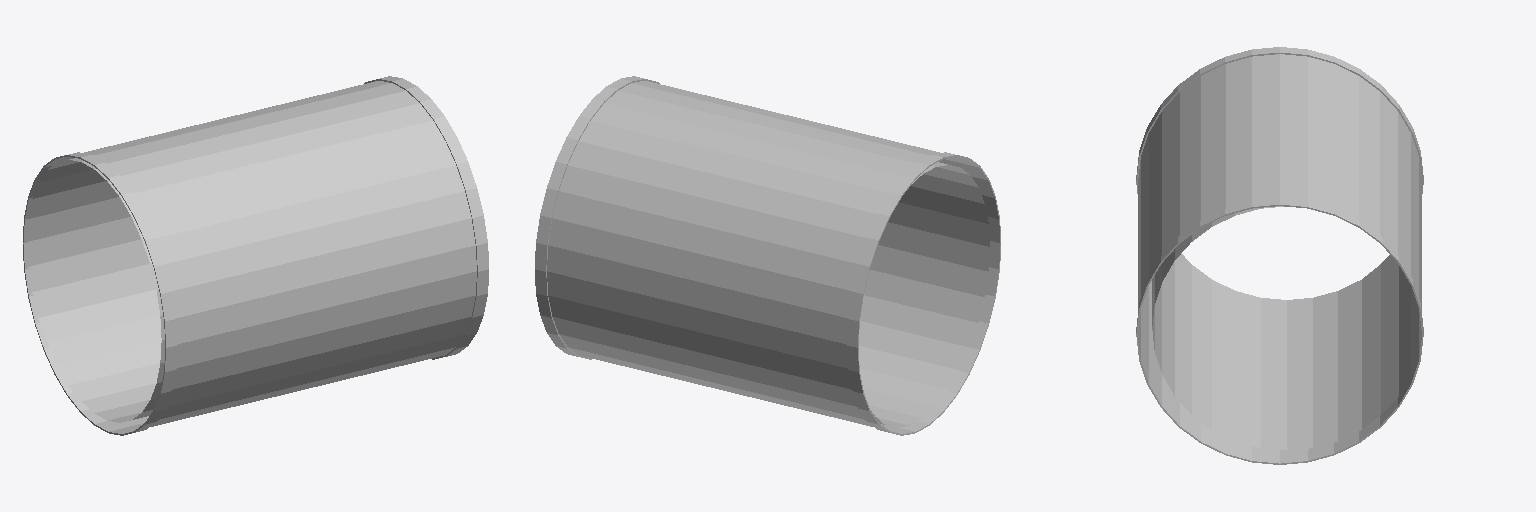
The model's file is shipCylender.obj.
3 renders of one model, left to right at view 1: azimuth 30°, elevation 25°; view 2: azimuth 150°, elevation 25°; view 3: azimuth 270°, elevation 25°, orthographic.
Parts seen in each view (by area): view 1: OuterShield_OneHatch_Cylinder.006, PMM_PressureHull.001_Untitled.072; view 2: OuterShield_OneHatch_Cylinder.006, PMM_PressureHull.001_Untitled.072; view 3: OuterShield_OneHatch_Cylinder.006, PMM_PressureHull.001_Untitled.072.
Boxes of the visible parts, x1=… form: OuterShield_OneHatch_Cylinder.006: x1=23, y1=76, x2=488, y2=435; PMM_PressureHull.001_Untitled.072: x1=27, y1=158, x2=164, y2=422; OuterShield_OneHatch_Cylinder.006: x1=535, y1=76, x2=1000, y2=435; PMM_PressureHull.001_Untitled.072: x1=859, y1=162, x2=989, y2=427; OuterShield_OneHatch_Cylinder.006: x1=1136, y1=47, x2=1423, y2=464; PMM_PressureHull.001_Untitled.072: x1=1152, y1=206, x2=1420, y2=450.
Size of the model in its own units: 60.32 by 46.45 by 46.45.